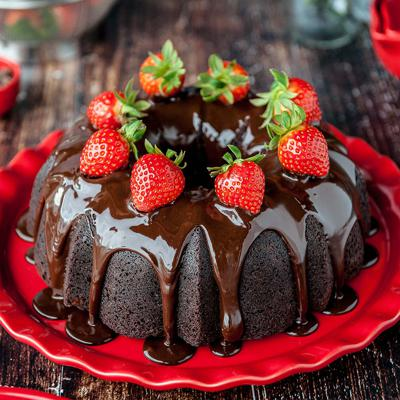cake: (27, 67, 375, 353)
